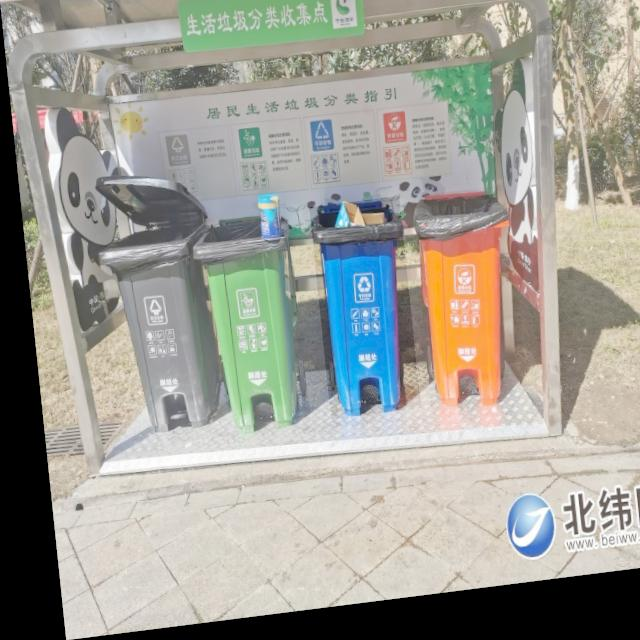garbage_bin: (92, 225, 214, 437), (405, 197, 518, 422)
overflow: (183, 198, 296, 439), (304, 206, 411, 427)
